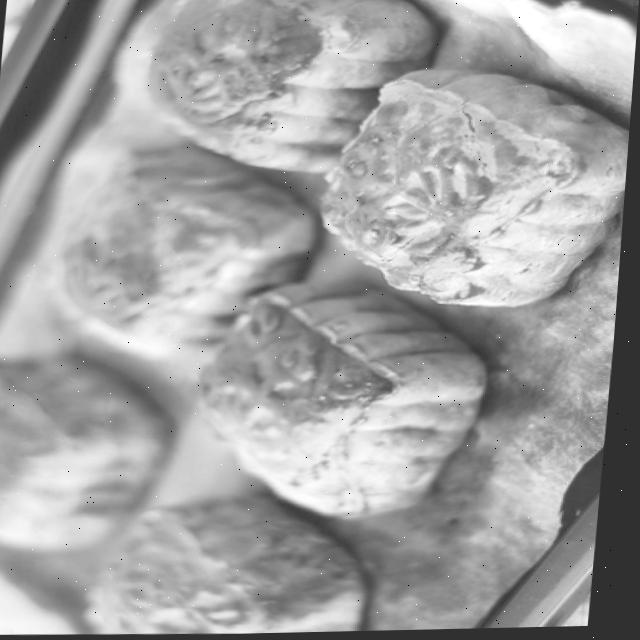蛋糕甜品: (0, 0, 625, 623)
